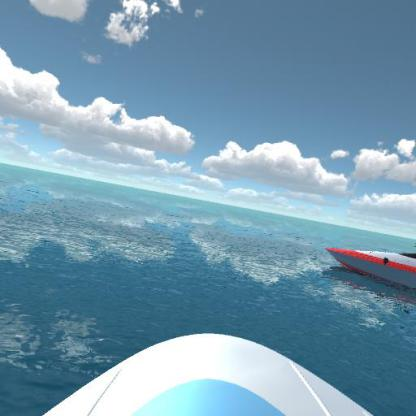usv3: (321, 234, 415, 291)
